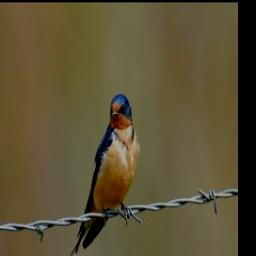Swallow: (70, 92, 141, 256)
